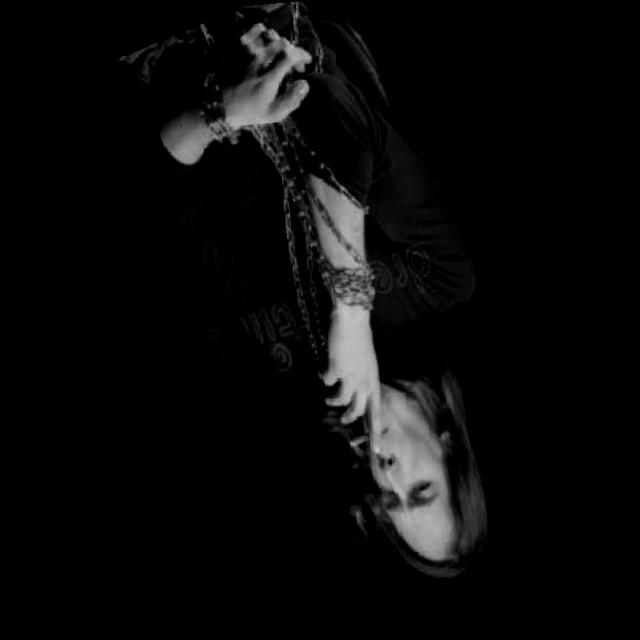smoke: (346, 430, 376, 449)
